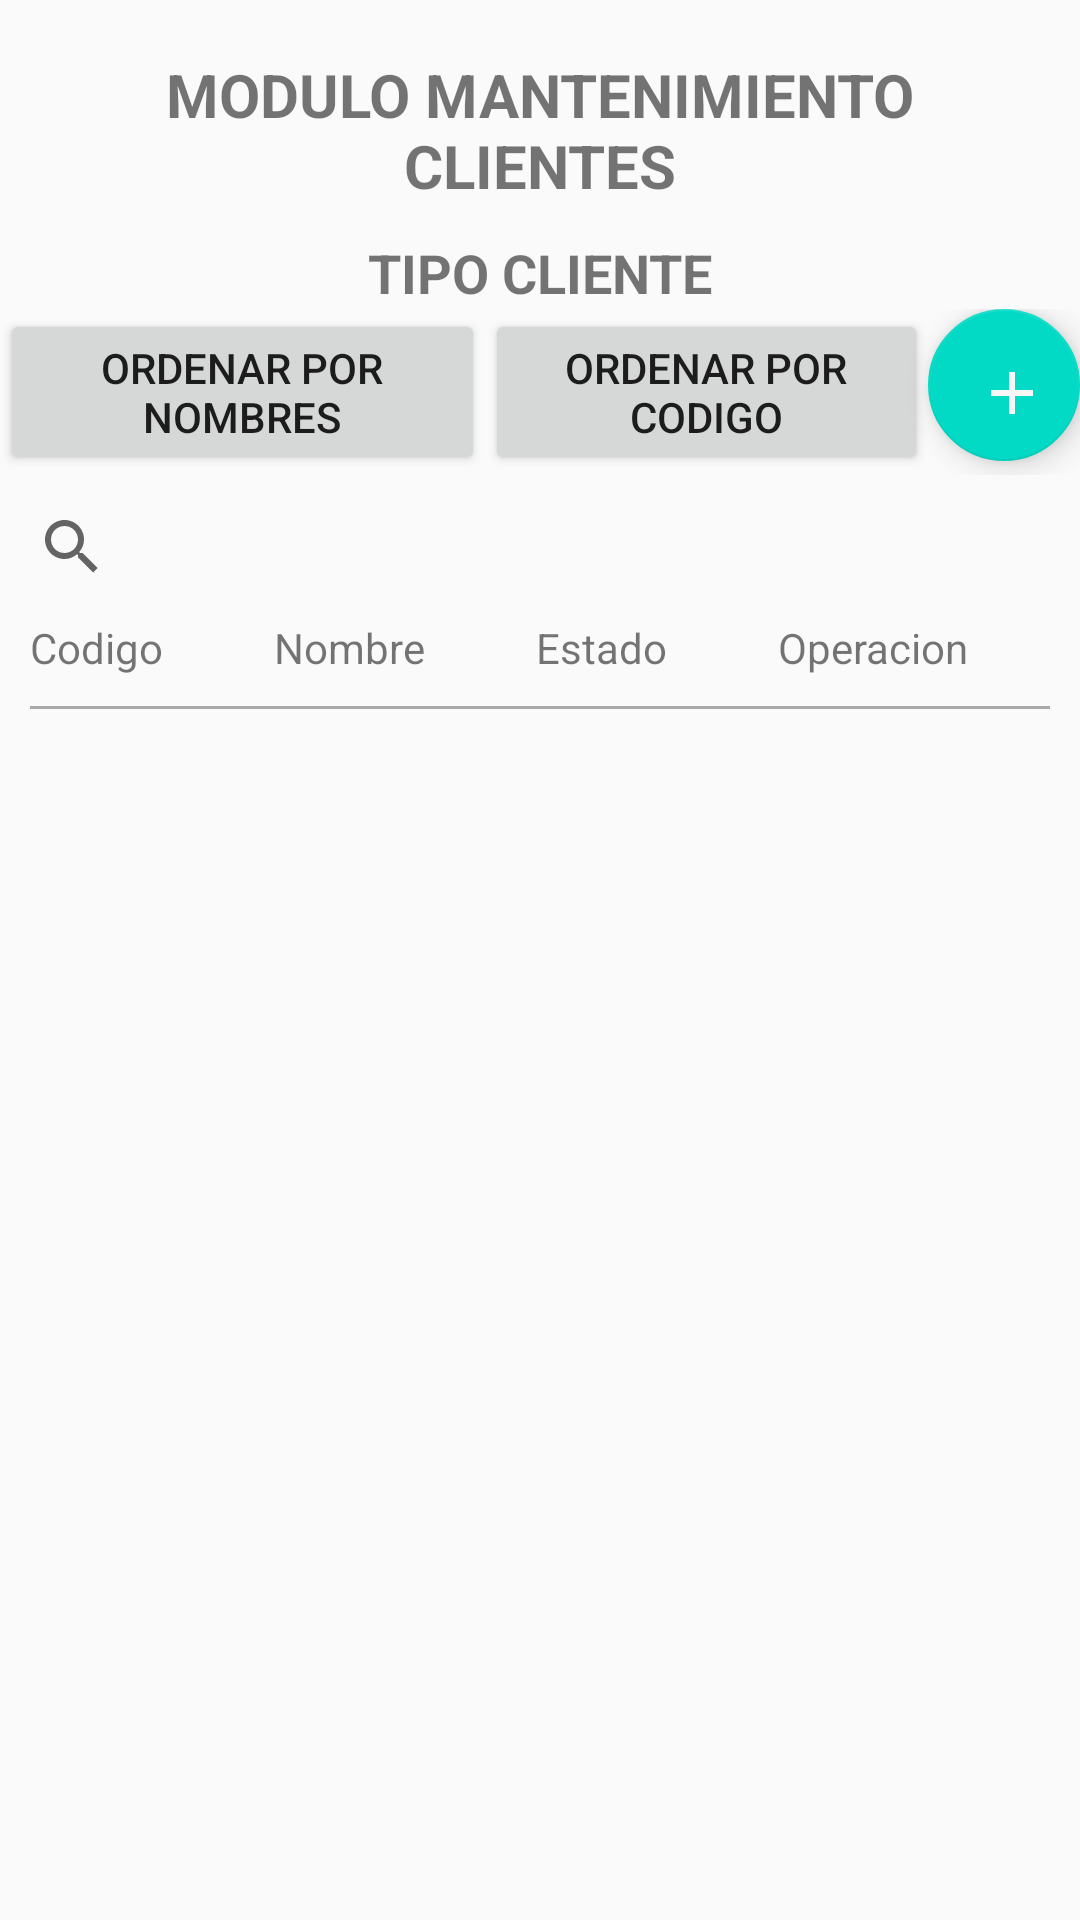

Where to tap for icons on this 1080 x 1920 app screen, as point (x, y):
agregar: point (1004, 385)
